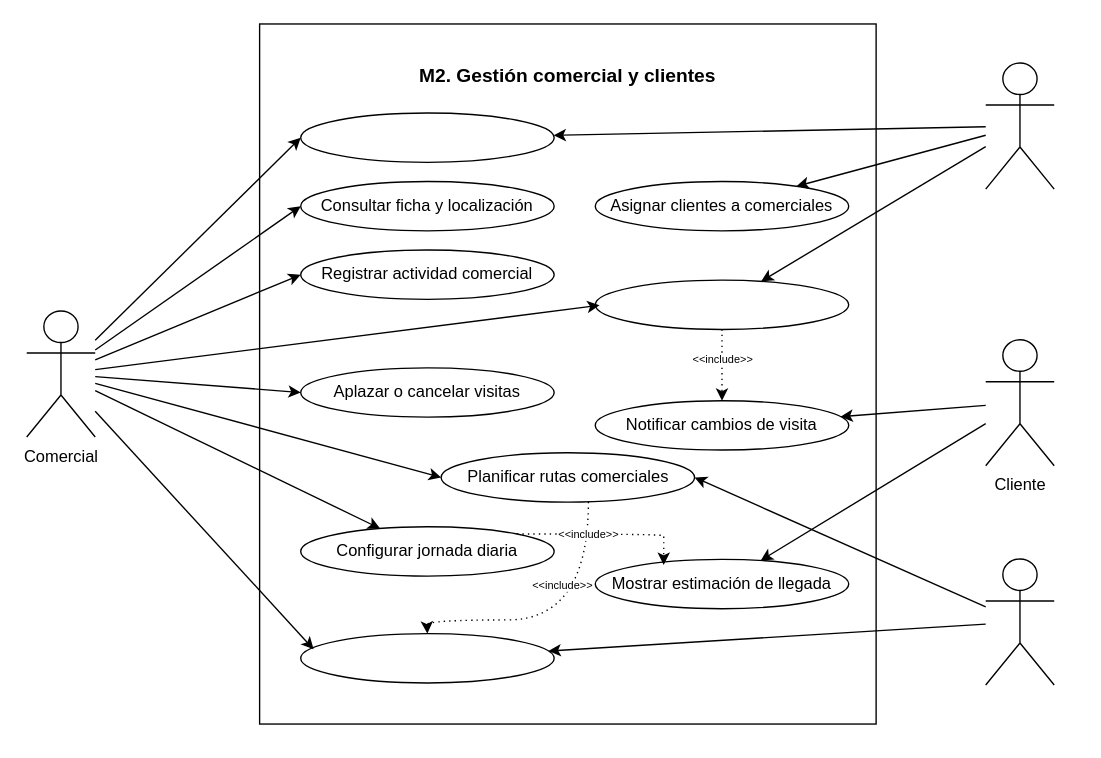
The diagram is 1101 pixels wide and 758 high, and some of its shapes have lost their labels. The centre of each missing label's shape, as x and y in pixels:
"Admin" goes at (1019,125).
"Generar navegación hacia cliente" goes at (426,657).
"Gestionar clientes profesionales" goes at (426,137).
"Planificar visitas comerciales" goes at (721,304).
"Servicio externo de navegación" goes at (1019,621).
